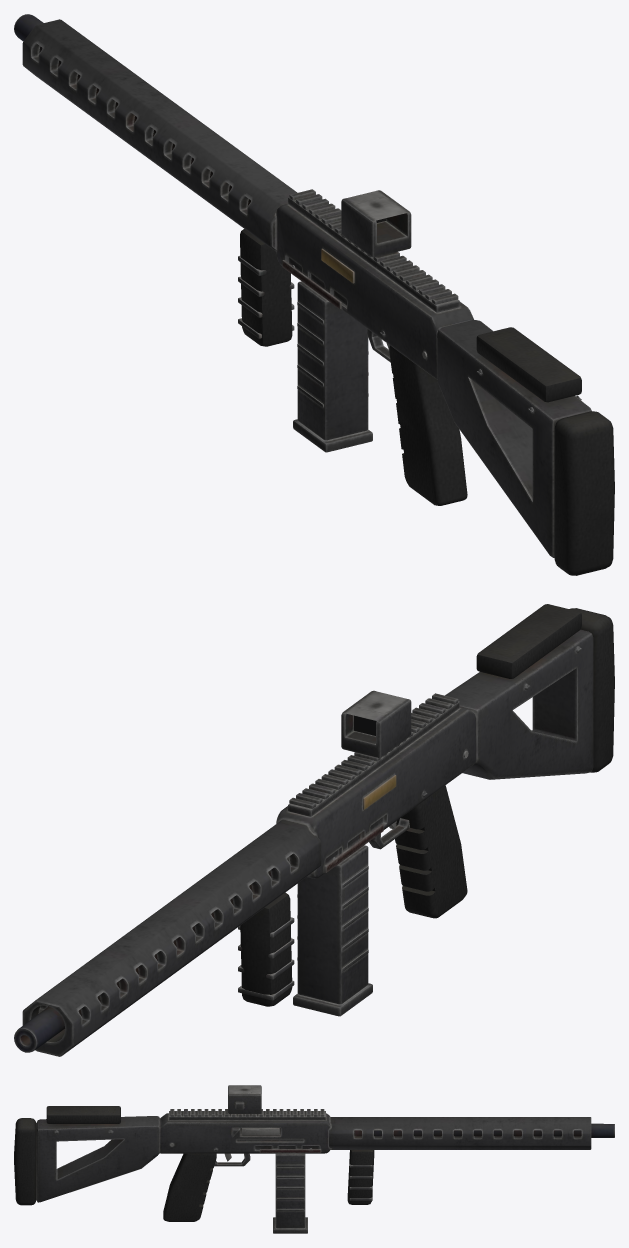
File: explorer_shotgun.glb
3 renders of one model, top to bottom at view 1: azimuth 30°, elevation 25°; view 2: azimuth 150°, elevation 25°; view 3: azimuth 270°, elevation 25°, orthographic. The views are drawn at different scales.
Visible parts, largest first — view 1: explorer_shotgun; view 2: explorer_shotgun; view 3: explorer_shotgun.
Boxes of the visible parts, <box> form: explorer_shotgun: <box>14,14,614,575</box>; explorer_shotgun: <box>14,604,614,1056</box>; explorer_shotgun: <box>14,1085,614,1233</box>.
Size of the model in its own units: 0.0611 by 0.2925 by 1.15.
Materials: 1 (1 with a texture image).
